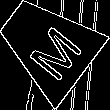M_NW: (15, 11, 80, 78)
